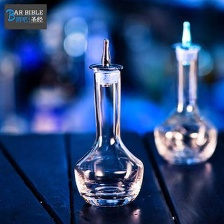bottle: (70, 63, 148, 212), (150, 44, 221, 169)
